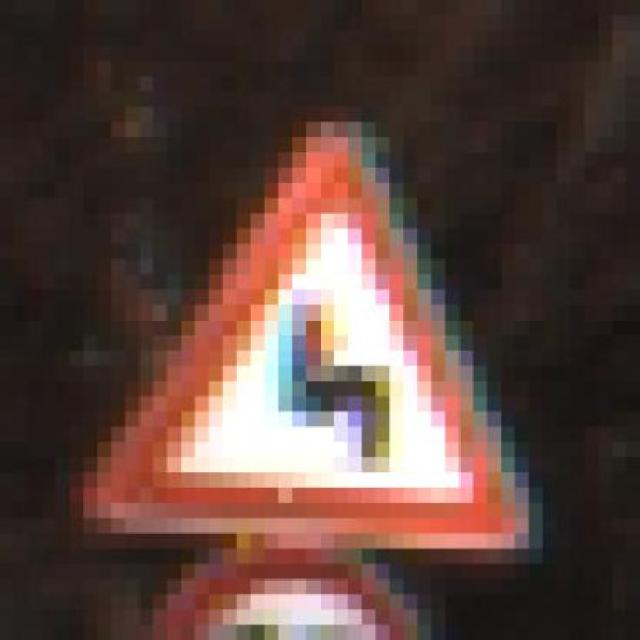Left Zig Zag Traffic: (83, 107, 557, 579)
